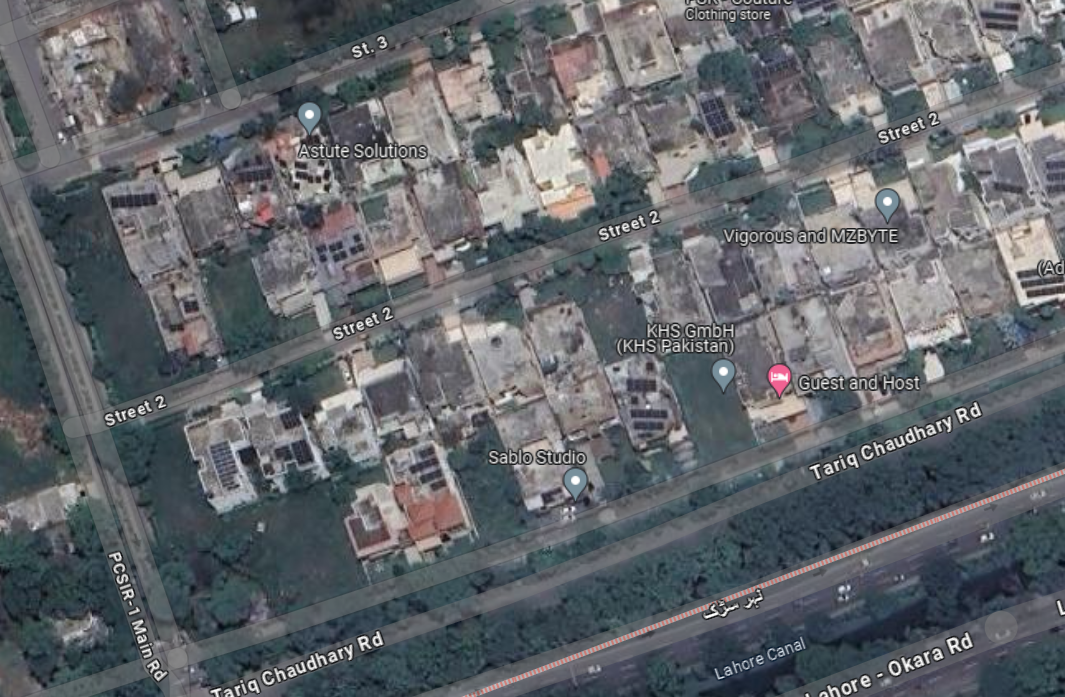solar-panel: (628, 374, 666, 436), (1017, 262, 1065, 302), (979, 1, 1020, 35), (699, 94, 735, 132), (292, 154, 331, 188), (314, 235, 364, 260), (212, 438, 237, 483), (106, 190, 160, 208), (415, 449, 444, 482), (1049, 153, 1065, 199), (279, 442, 312, 463), (753, 60, 796, 76), (236, 166, 274, 183), (997, 181, 1023, 195), (284, 410, 301, 427)
